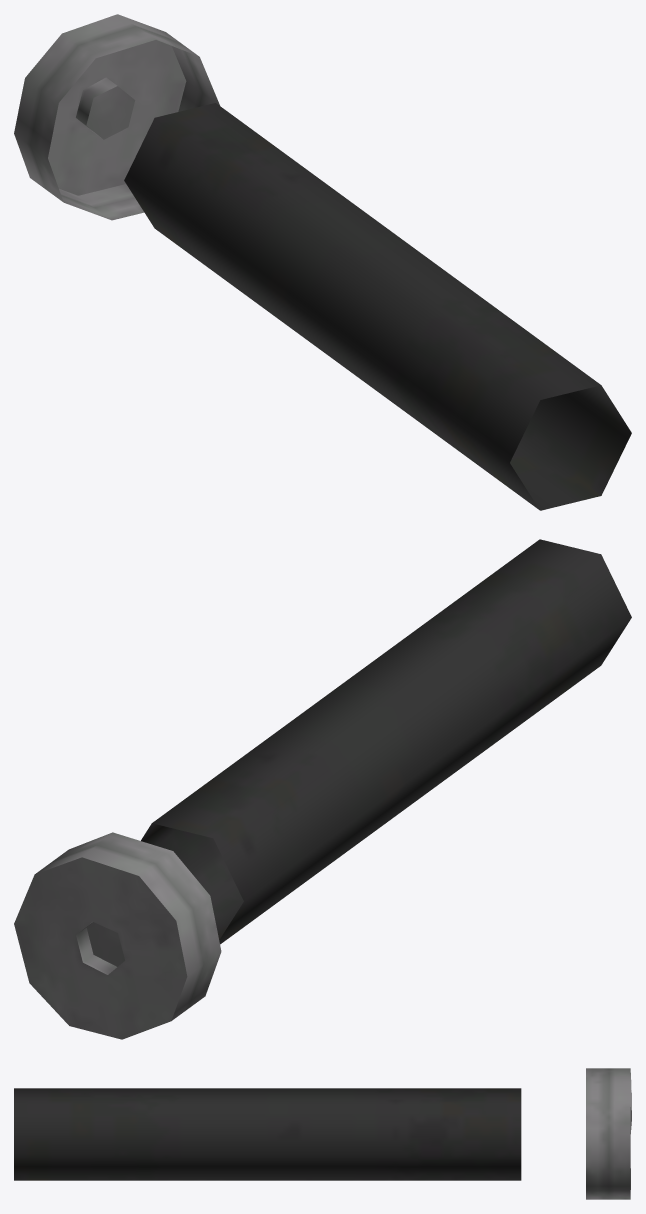
Rendered from arm_2_bar_1.dae.
The picture shows the model from 3 angles, top to bottom: view 1: azimuth 30°, elevation 25°; view 2: azimuth 150°, elevation 25°; view 3: azimuth 270°, elevation 25°; orthographic projection. The views are drawn at different scales.
Visible parts, largest first — view 1: arm_2_bar_1; view 2: arm_2_bar_1; view 3: arm_2_bar_1.
Boxes of the visible parts, box(x1,y1,x2,y2) form: arm_2_bar_1: box(14, 14, 631, 510); arm_2_bar_1: box(14, 539, 631, 1039); arm_2_bar_1: box(14, 1068, 631, 1199).
Bounding box in the file's own units: 0.00988 × 0.0467 × 0.00941.
